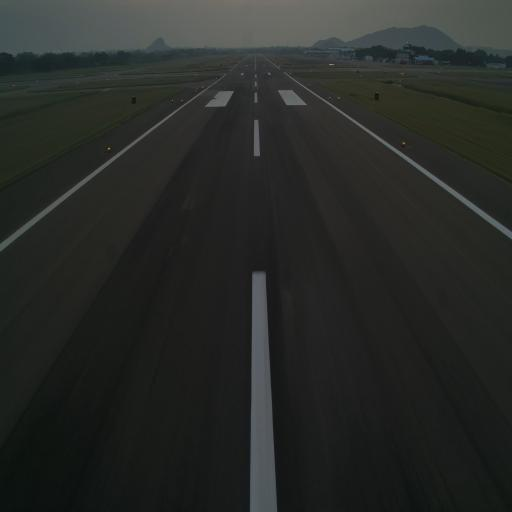on: (401, 139, 407, 149), (107, 144, 112, 155)
